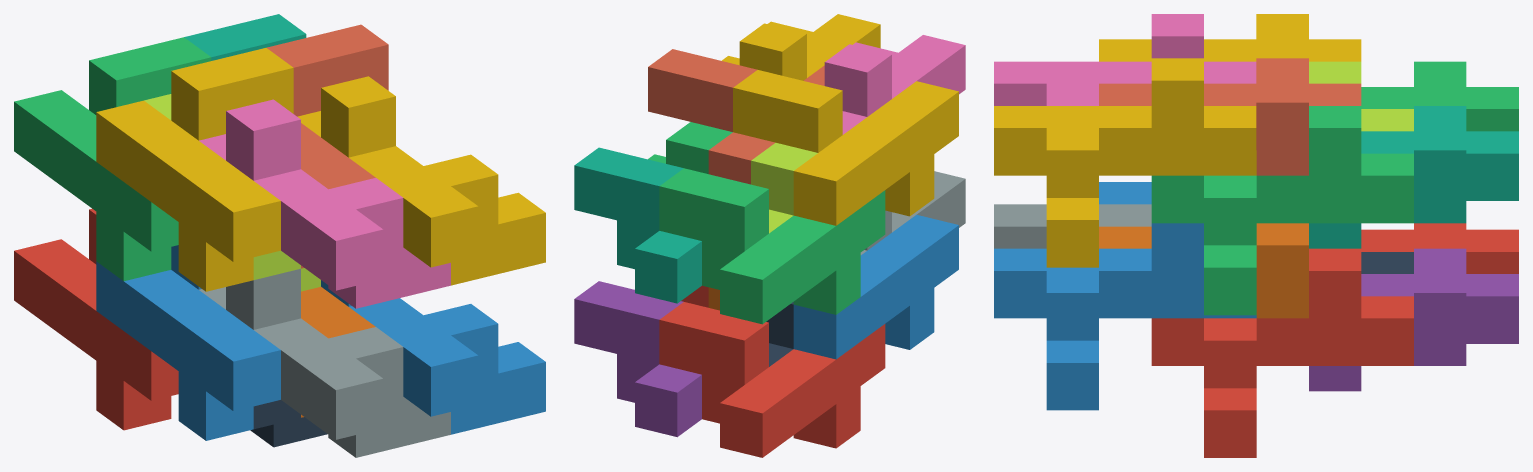
The model's file is tiling.obj.
3 renders of one model, left to right at view 1: azimuth 30°, elevation 25°; view 2: azimuth 150°, elevation 25°; view 3: azimuth 270°, elevation 25°, orthographic. The views are drawn at different scales.
Parts seen in each view (by area): view 1: copy_1_domain_4, copy_2_domain_8, copy_2_domain_4, copy_1_domain_3, copy_2_domain_2, copy_1_domain_2, copy_2_domain_6, copy_1_domain_1, copy_1_domain_8, copy_1_domain_7, copy_1_domain_6, copy_2_domain_1 (+1 smaller); view 2: copy_1_domain_4, copy_1_domain_3, copy_1_domain_1, copy_1_domain_2, copy_1_domain_7, copy_1_domain_5, copy_1_domain_8, copy_2_domain_4, copy_2_domain_8, copy_2_domain_3, copy_2_domain_2, copy_2_domain_7 (+1 smaller); view 3: copy_2_domain_8, copy_2_domain_7, copy_2_domain_5, copy_2_domain_6, copy_1_domain_7, copy_1_domain_5, copy_1_domain_8, copy_2_domain_4, copy_1_domain_6, copy_1_domain_4, copy_1_domain_3, copy_1_domain_1 (+4 smaller).
Boxes of the visible parts, left/top/right/bottom form: copy_1_domain_4: left=96, top=48, right=293, bottom=291; copy_2_domain_8: left=297, top=76, right=545, bottom=285; copy_2_domain_4: left=199, top=99, right=450, bottom=308; copy_1_domain_3: left=14, top=37, right=211, bottom=281; copy_2_domain_2: left=199, top=268, right=450, bottom=457; copy_1_domain_2: left=96, top=245, right=280, bottom=440; copy_2_domain_6: left=321, top=280, right=545, bottom=434; copy_1_domain_1: left=14, top=208, right=178, bottom=430; copy_1_domain_8: left=266, top=24, right=388, bottom=268; copy_1_domain_7: left=184, top=14, right=306, bottom=60; copy_1_domain_6: left=301, top=287, right=375, bottom=417; copy_2_domain_1: left=250, top=400, right=327, bottom=447; copy_1_domain_4: left=733, top=70, right=958, bottom=225; copy_1_domain_3: left=659, top=168, right=885, bottom=324; copy_1_domain_1: left=659, top=302, right=885, bottom=457; copy_1_domain_2: left=793, top=214, right=958, bottom=359; copy_1_domain_7: left=574, top=147, right=701, bottom=303; copy_1_domain_5: left=574, top=281, right=701, bottom=437; copy_1_domain_8: left=648, top=49, right=824, bottom=184; copy_2_domain_4: left=824, top=35, right=965, bottom=134; copy_2_domain_8: left=721, top=14, right=880, bottom=80; copy_2_domain_3: left=751, top=142, right=817, bottom=233; copy_2_domain_2: left=860, top=171, right=965, bottom=254; copy_2_domain_7: left=648, top=122, right=732, bottom=173; copy_2_domain_8: left=994, top=58, right=1256, bottom=267; copy_2_domain_7: left=1151, top=106, right=1413, bottom=315; copy_2_domain_5: left=1151, top=248, right=1413, bottom=457; copy_2_domain_6: left=994, top=223, right=1256, bottom=410; copy_1_domain_7: left=1309, top=106, right=1518, bottom=248; copy_1_domain_5: left=1309, top=248, right=1518, bottom=391; copy_1_domain_8: left=1099, top=58, right=1361, bottom=175; copy_2_domain_4: left=994, top=14, right=1256, bottom=105; copy_1_domain_6: left=1099, top=223, right=1308, bottom=318; copy_1_domain_4: left=1099, top=14, right=1361, bottom=61; copy_1_domain_3: left=1361, top=61, right=1518, bottom=131; copy_1_domain_1: left=1361, top=223, right=1518, bottom=273.
Bounding box in the file's own units: 6 × 7 × 10.
